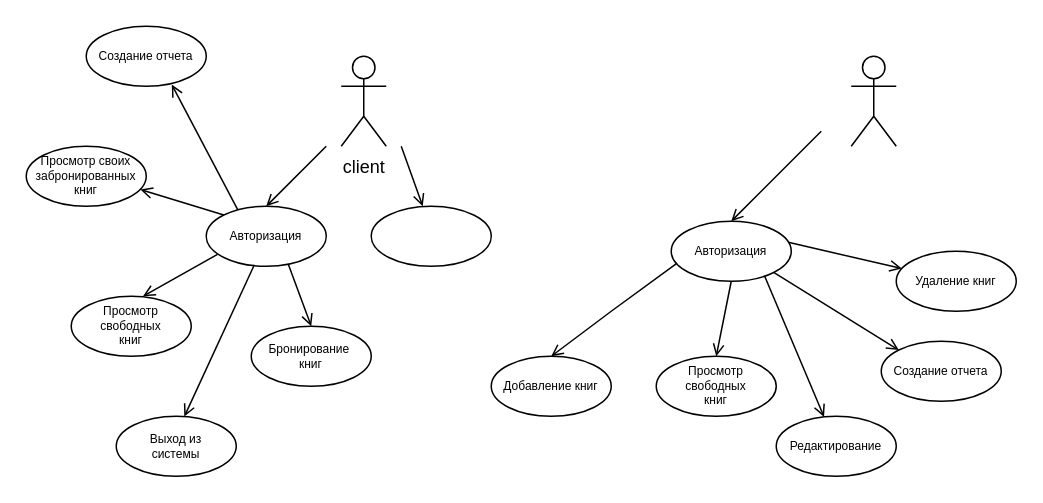
Image size: 1043x503. Some labels were removed from this diagram. The shapes that lost their labels are listed below. From the top down, each one's box as (x1, y1, x2, y2) in pixels, then its label:
(850, 55, 896, 146): library_personal
(370, 205, 491, 266): Регистрация
